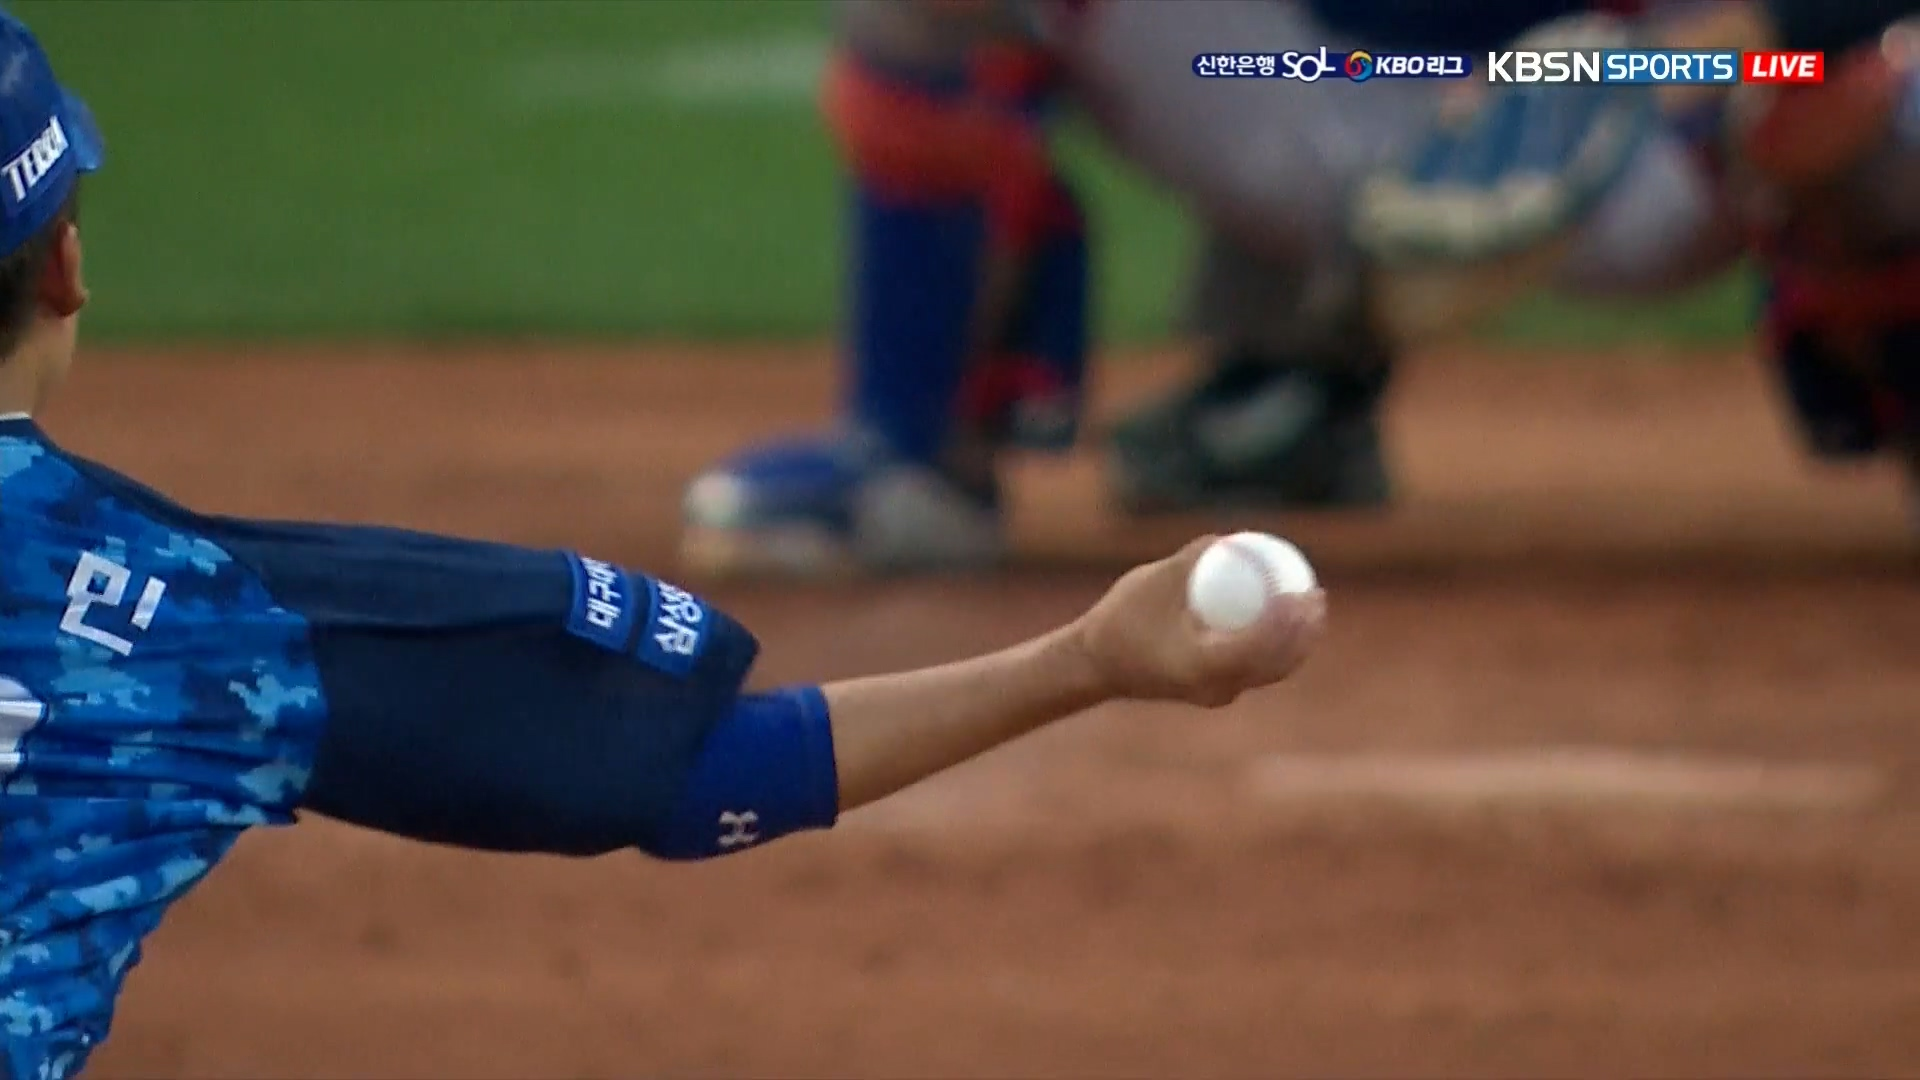zoomin_hand: (646, 516, 1345, 880)
